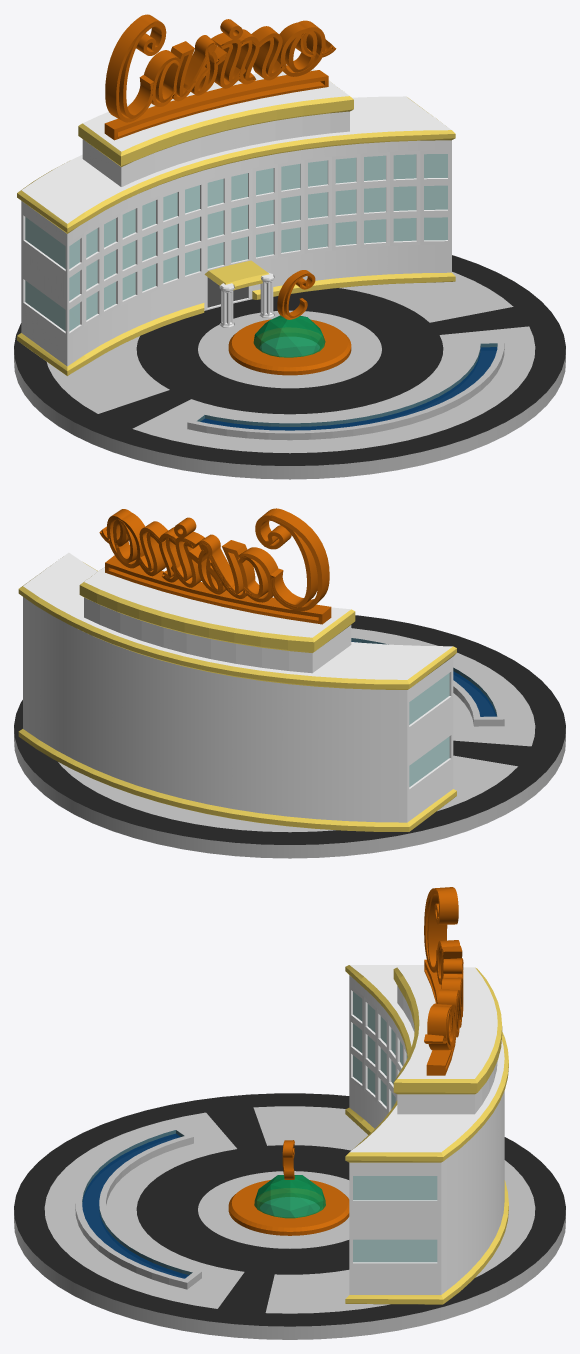
Rendered from Casino_1255.gltf.
3 renders of one model, top to bottom at view 1: azimuth 30°, elevation 25°; view 2: azimuth 150°, elevation 25°; view 3: azimuth 270°, elevation 25°, orthographic.
Parts seen in each view (by area): view 1: node-0; view 2: node-0; view 3: node-0.
Boxes of the visible parts, x1=… form: node-0: x1=14, y1=14, x2=565, y2=479; node-0: x1=14, y1=508, x2=565, y2=858; node-0: x1=14, y1=887, x2=565, y2=1339.
Size of the model in its own units: 176 by 107 by 177.
